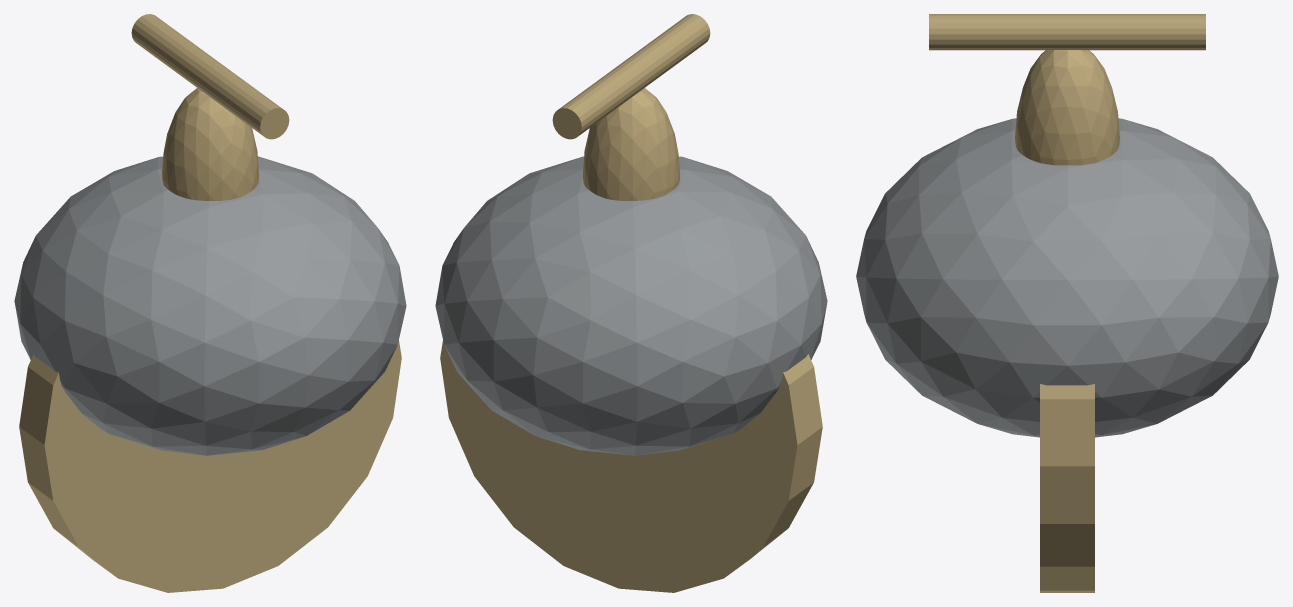
The model's file is ottoman_helmet.glb.
3 views of the same model, side by side, from view 1: azimuth 30°, elevation 25°; view 2: azimuth 150°, elevation 25°; view 3: azimuth 270°, elevation 25° (orthographic). The views are drawn at different scales.
Visible parts, largest first — view 1: steel_cap, brass_band, finial, finial_spike; view 2: steel_cap, brass_band, finial, finial_spike; view 3: steel_cap, brass_band, finial_spike, finial.
Part boxes in pixels (<box>): steel_cap: <box>14,156,406,455</box>; brass_band: <box>19,340,401,592</box>; finial: <box>162,88,258,200</box>; finial_spike: <box>131,14,289,139</box>; steel_cap: <box>435,156,827,455</box>; brass_band: <box>440,340,822,592</box>; finial: <box>583,88,679,200</box>; finial_spike: <box>552,14,710,139</box>; steel_cap: <box>856,118,1278,437</box>; brass_band: <box>1040,384,1094,592</box>; finial_spike: <box>929,14,1205,50</box>; finial: <box>1015,50,1119,165</box>.
Bounding box in the file's own units: 0.61 × 0.845 × 0.58.
